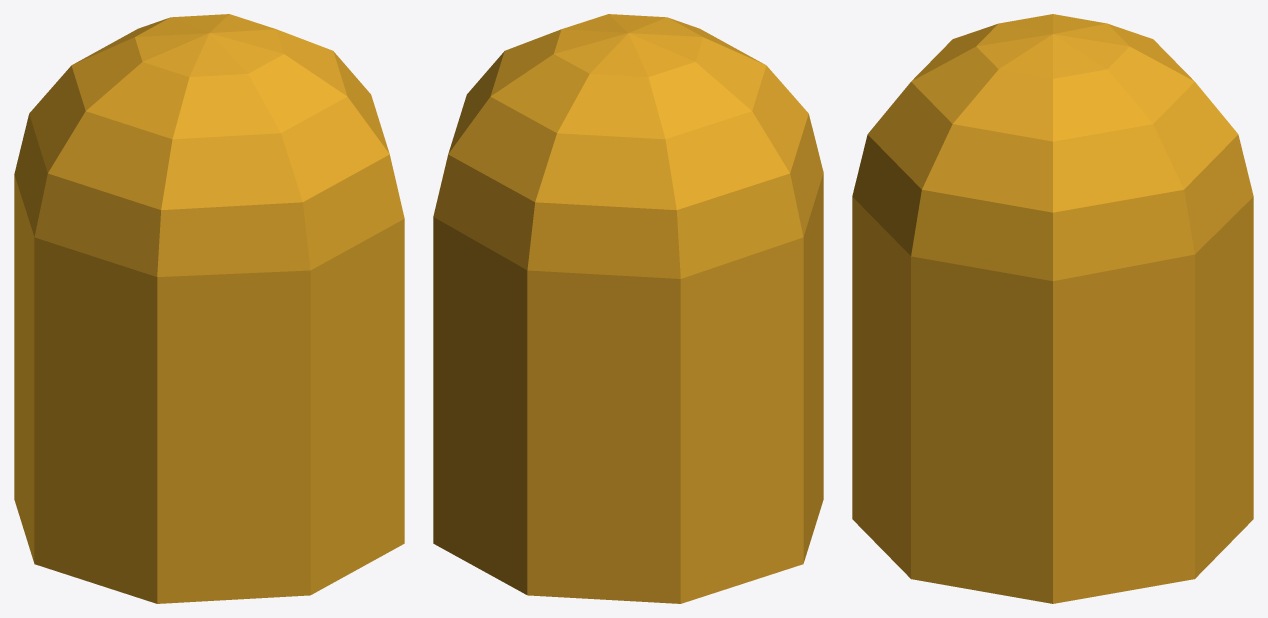
Rendered from push_button_8faces.glb.
The picture shows the model from 3 angles, left to right: view 1: azimuth 30°, elevation 25°; view 2: azimuth 150°, elevation 25°; view 3: azimuth 270°, elevation 25°; orthographic projection.
Visible parts, largest first — view 1: Cylinder; view 2: Cylinder; view 3: Cylinder.
Part boxes in pixels (x1,y1,x2,y2): Cylinder: (14, 14, 404, 603); Cylinder: (433, 14, 823, 603); Cylinder: (852, 14, 1253, 603).
Bounding box in the file's own units: 1.5 × 2 × 1.5.
